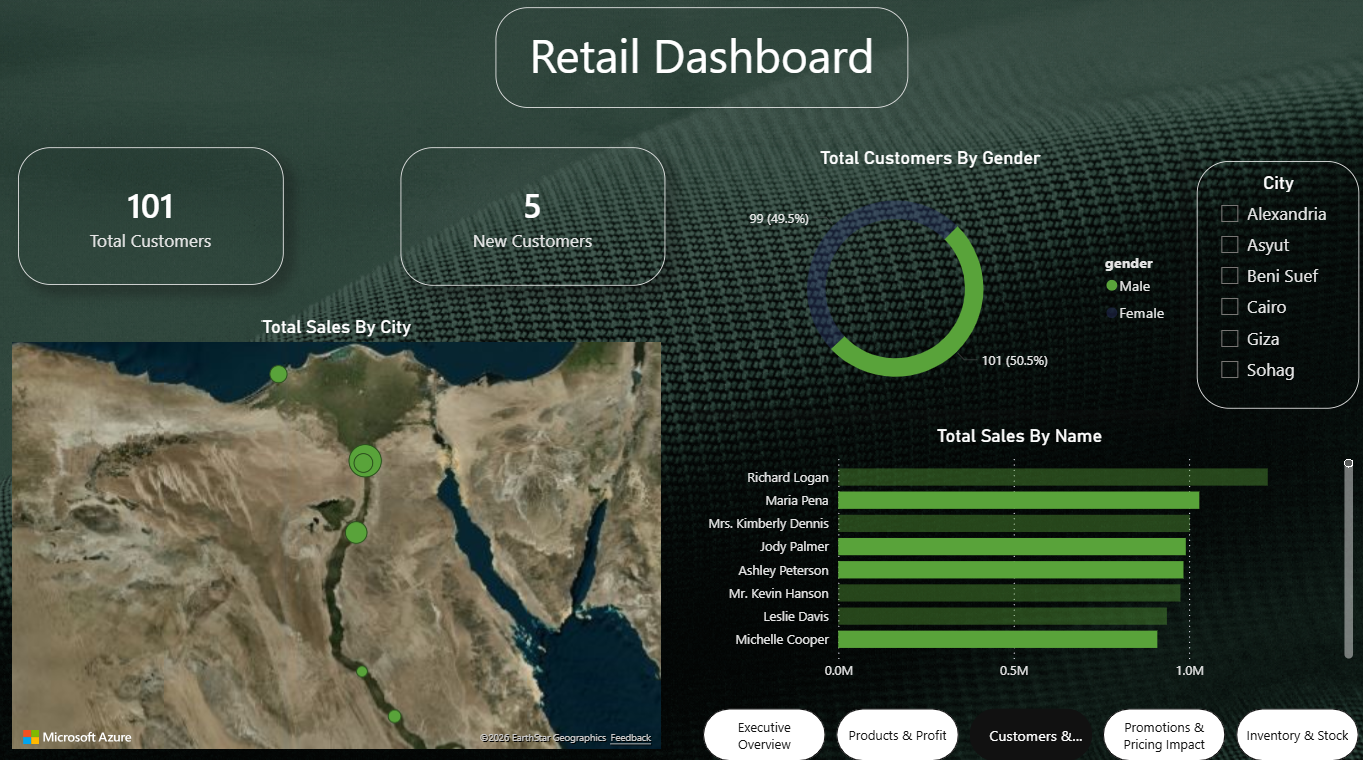

What the dashboard file says about the page in this screenshot:
{"tool":"powerbi","page":{"name":"Customers & Geography","canvas":[1280,720],"ordinal":2},"visuals":[{"type":"cardVisual","fields":{"Data":["Measure Table.Total Customers"]},"box":[23.3,140.8,247,128.3],"z":0},{"type":"cardVisual","fields":{"Data":["Measure Table.New Customers"]},"box":[379.5,140.6,246.7,128.5],"z":1000},{"type":"map","title":"Total Sales By City","fields":{"Category":["Customers.city"],"Size":["Measure Table.Total Sales"]},"box":[12.5,297.5,614.2,407.5],"z":2000},{"type":"barChart","title":"Total Sales By Name","fields":{"Category":["Customers.name"],"Y":["Measure Table.Total Sales"]},"box":[640,398.3,630.8,246.7],"z":3000},{"type":"donutChart","title":"Total Customers By Gender","fields":{"Category":["Customers.gender"],"Y":["Measure Table.Total Customers"]},"box":[640,140.6,464.9,244.1],"z":4000},{"type":"slicer","title":"City","fields":{"Values":["Customers.city"]},"box":[1119.6,153.5,150.9,230.3],"z":5000},{"type":"pageNavigator","box":[660.8,662.5,610,49.2],"z":6000},{"type":"textbox","box":[468,10,384.2,93.3],"z":7000}]}

Visuals, with their boxes in screenshot pixels (x1, y1, x2, y2), scaled from the page's 1280x720 canvas onto the 1363x760 screenshot:
cardVisual - Measure Table.Total Customers: detection(25, 149, 288, 284)
cardVisual - Measure Table.New Customers: detection(404, 148, 667, 284)
"Total Sales By City" map: detection(13, 314, 667, 744)
"Total Sales By Name" barChart: detection(682, 420, 1353, 681)
"Total Customers By Gender" donutChart: detection(682, 148, 1177, 406)
"City" slicer: detection(1192, 162, 1353, 405)
pageNavigator: detection(704, 699, 1353, 751)
textbox: detection(498, 11, 907, 109)
